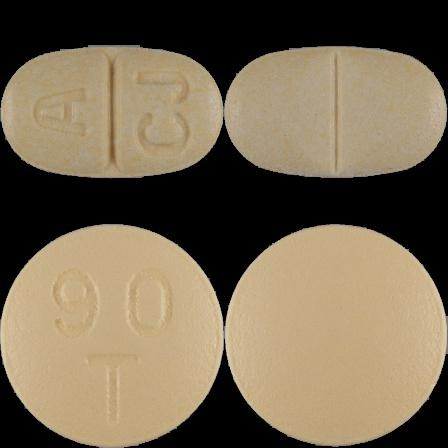0186-0322: (0, 0, 224, 224)
